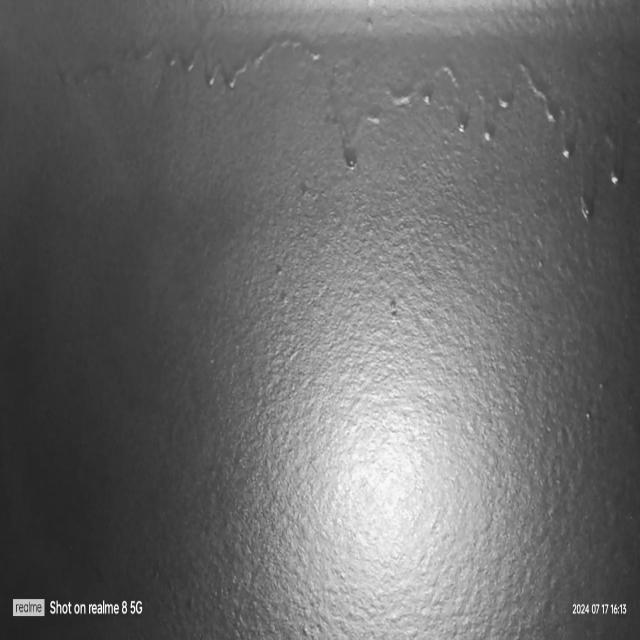paint drips: (31, 25, 640, 225)
